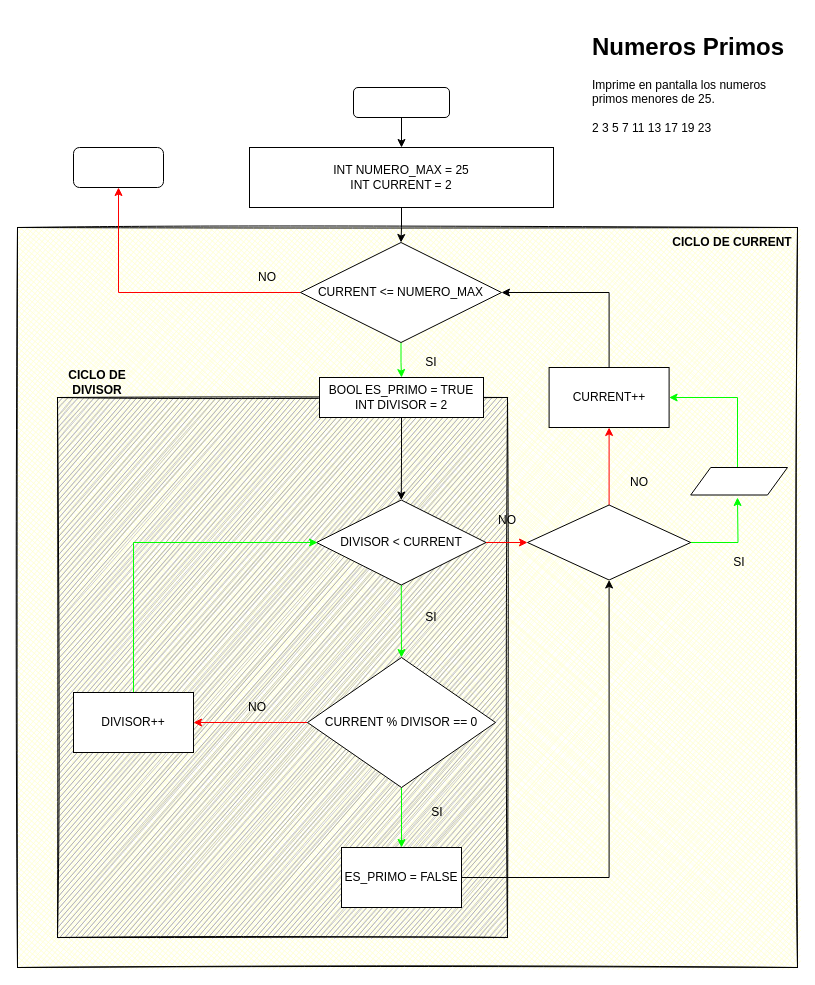
The diagram is 815 pixels wide and 985 high, and some of its shapes have lost their labels. The centre of each missing label's shape, as x and y in pixels:
"CURRENT" belongs at (x=739, y=480).
"ES_PRIMO == TRUE" belongs at (x=608, y=542).
"FIN" belongs at (x=118, y=167).
"INICIO" belongs at (x=401, y=102).
